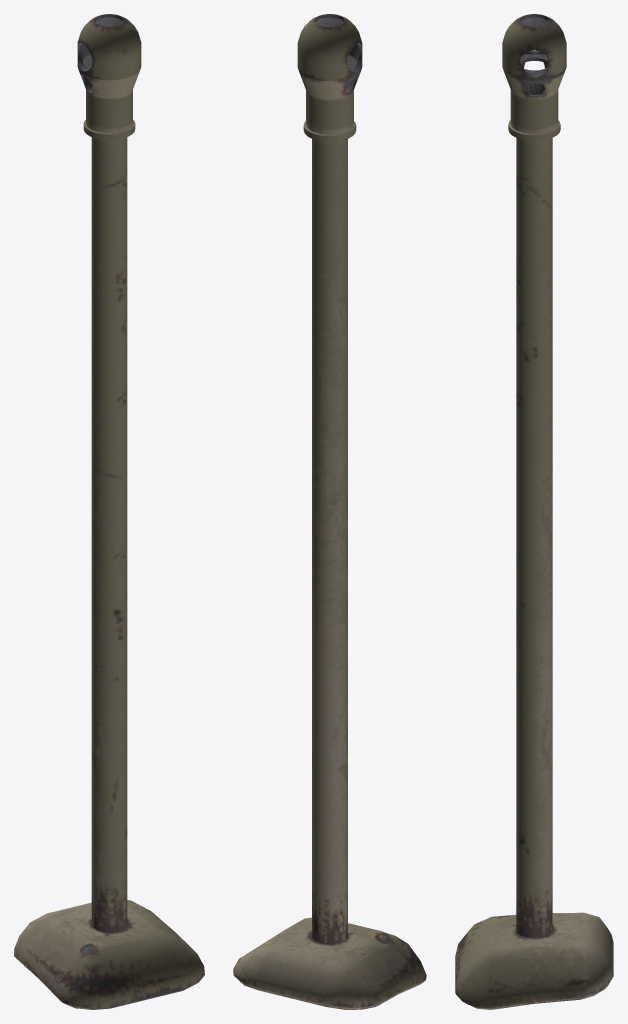
File: Gun_03.glb
3 views of the same model, side by side, from view 1: azimuth 30°, elevation 25°; view 2: azimuth 150°, elevation 25°; view 3: azimuth 270°, elevation 25° (orthographic).
Parts seen in each view (by area): view 1: set_0_group_0; view 2: set_0_group_0; view 3: set_0_group_0.
Boxes of the visible parts, box(x1,y1,x2,y2) form: set_0_group_0: box(14, 14, 204, 1009); set_0_group_0: box(233, 14, 426, 1009); set_0_group_0: box(455, 14, 613, 1009).
Bounding box in the file's own units: 0.4653 × 2.95 × 0.4418.
1 material, 1 textured.
